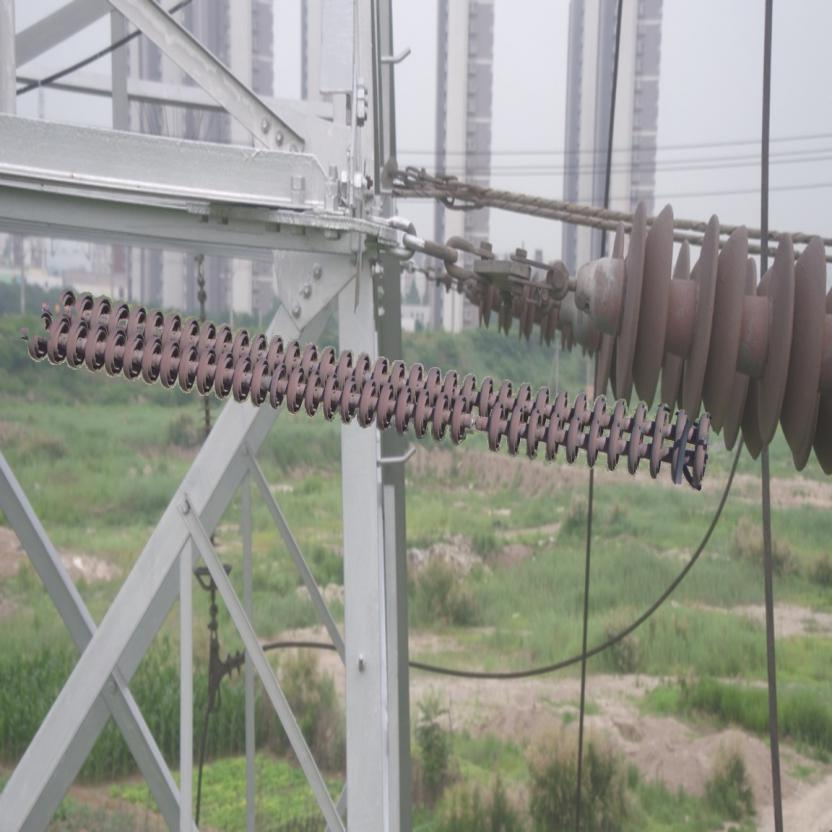defect: (446, 392, 508, 454)
